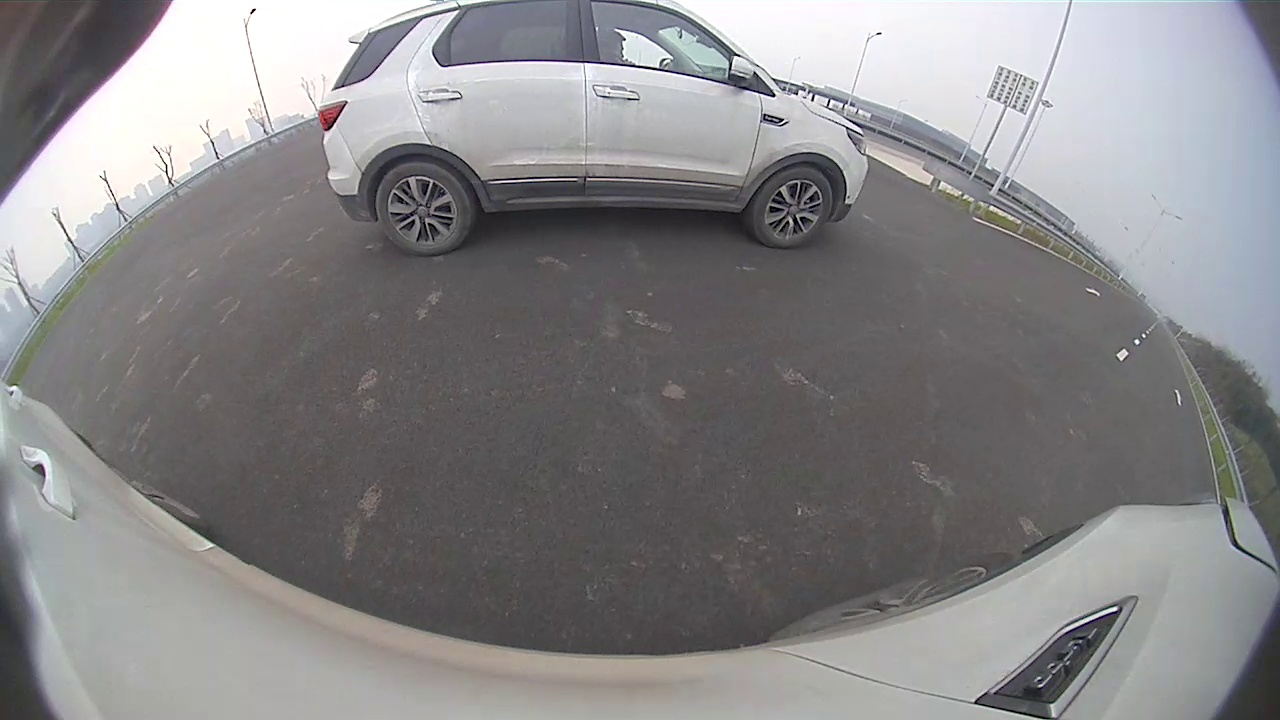car: (322, 1, 868, 254)
front: (754, 167, 832, 251)
rear: (377, 163, 471, 254)
